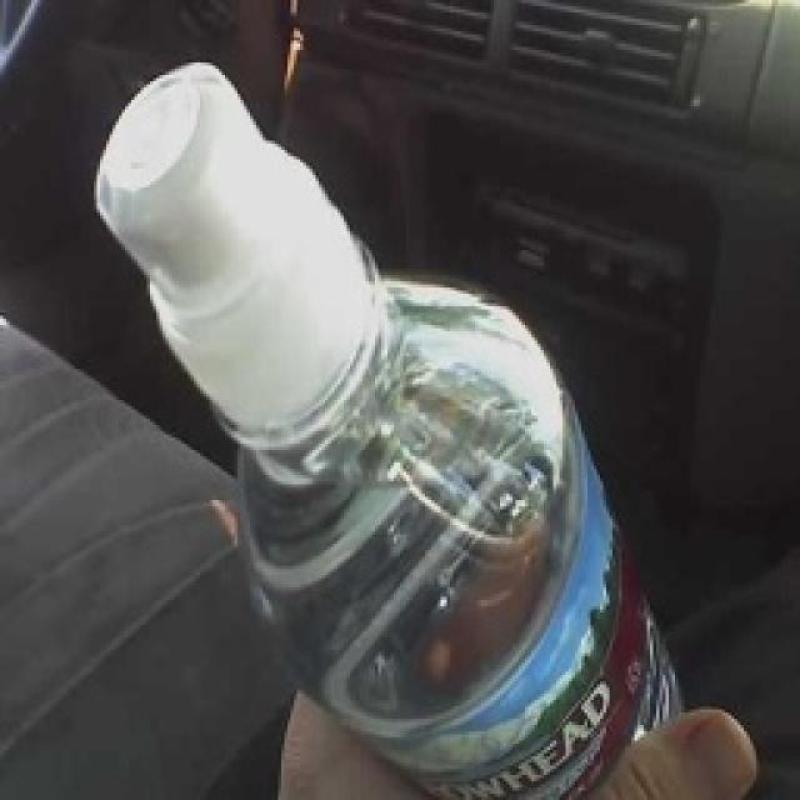botella: (86, 61, 686, 796)
